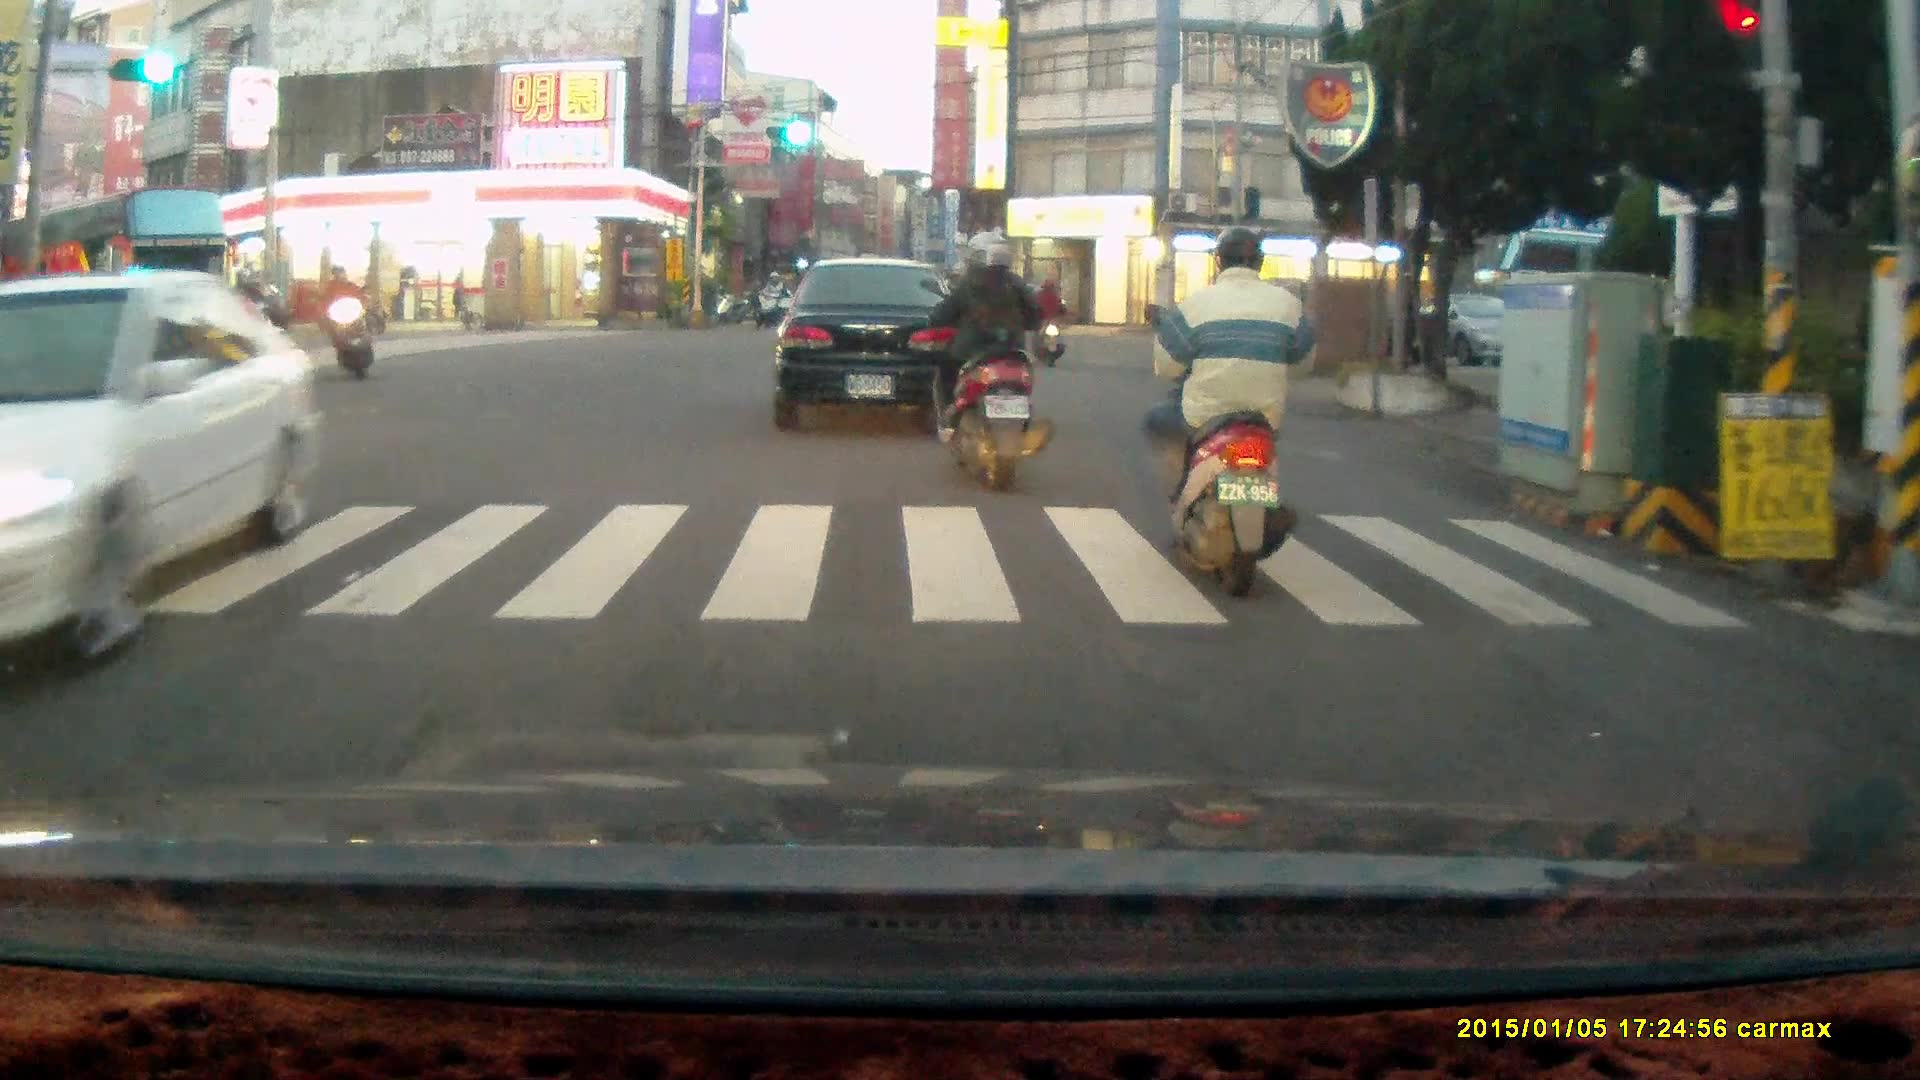rider: (1140, 224, 1303, 599), (920, 228, 1057, 495), (319, 264, 373, 381), (1022, 277, 1068, 370), (754, 271, 785, 329)
vehicle: (2, 271, 319, 697), (10, 188, 233, 354)
